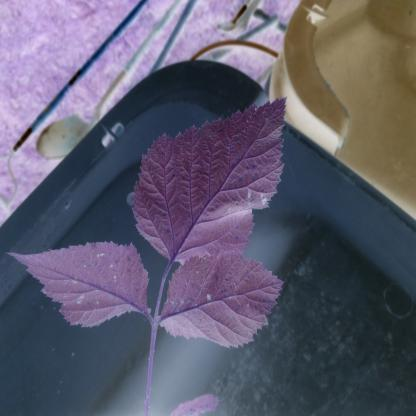raspberry leaf: (130, 95, 289, 272), (4, 242, 150, 335), (164, 255, 284, 346)
